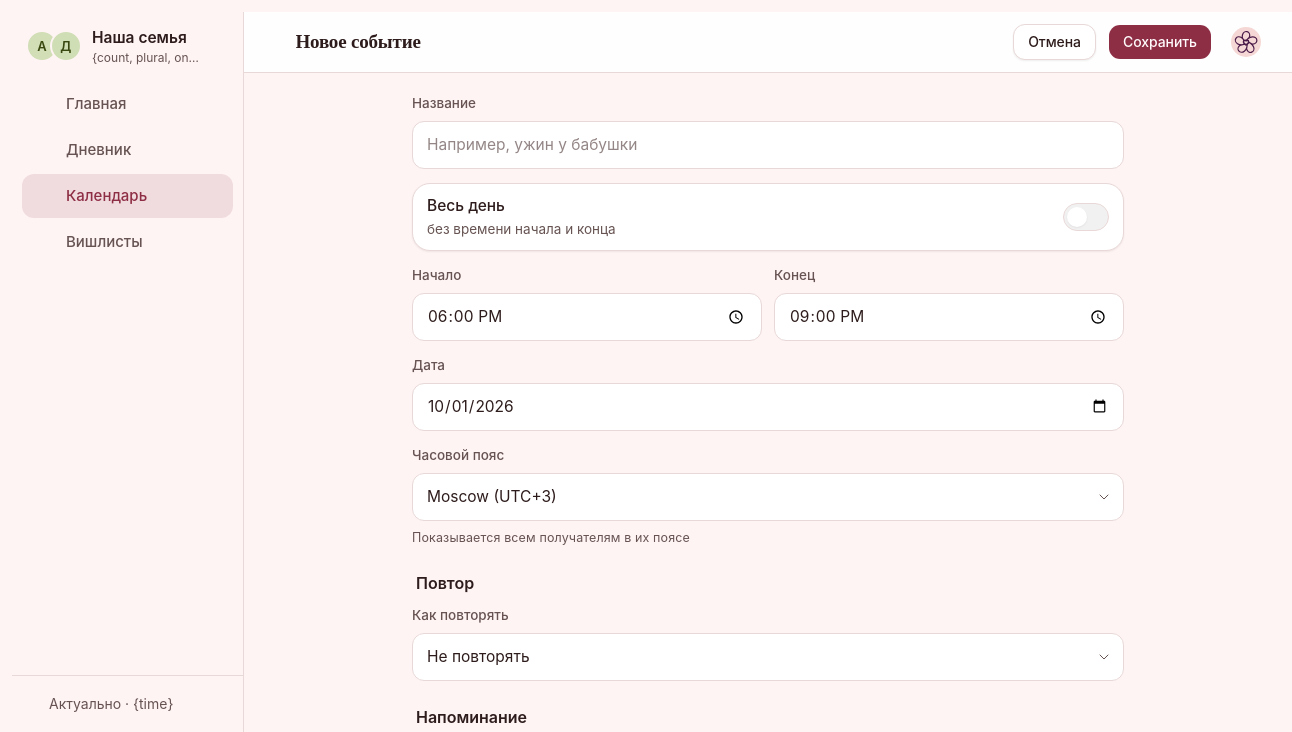
Scenario: EventEditorScreen (a new event) › a backwards pair of times is refused before anything is sent
The image size is (1292, 732).
Type "Вечеринка" into the field labelled "Название" at (768, 145), box top-left (412, 121), bottom-right (1124, 169)
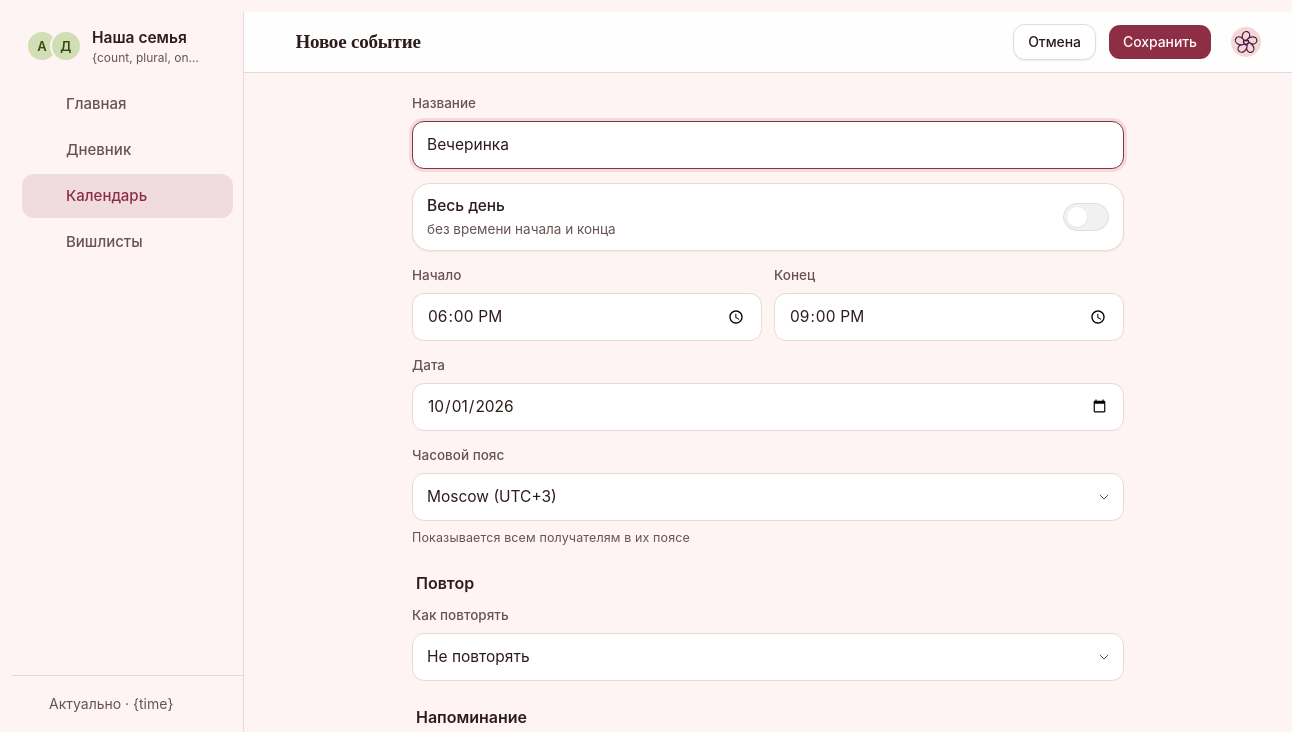
Replace the text in the time field labelled "Конец" with "17:00" at (949, 317), box top-left (774, 293), bottom-right (1124, 341)
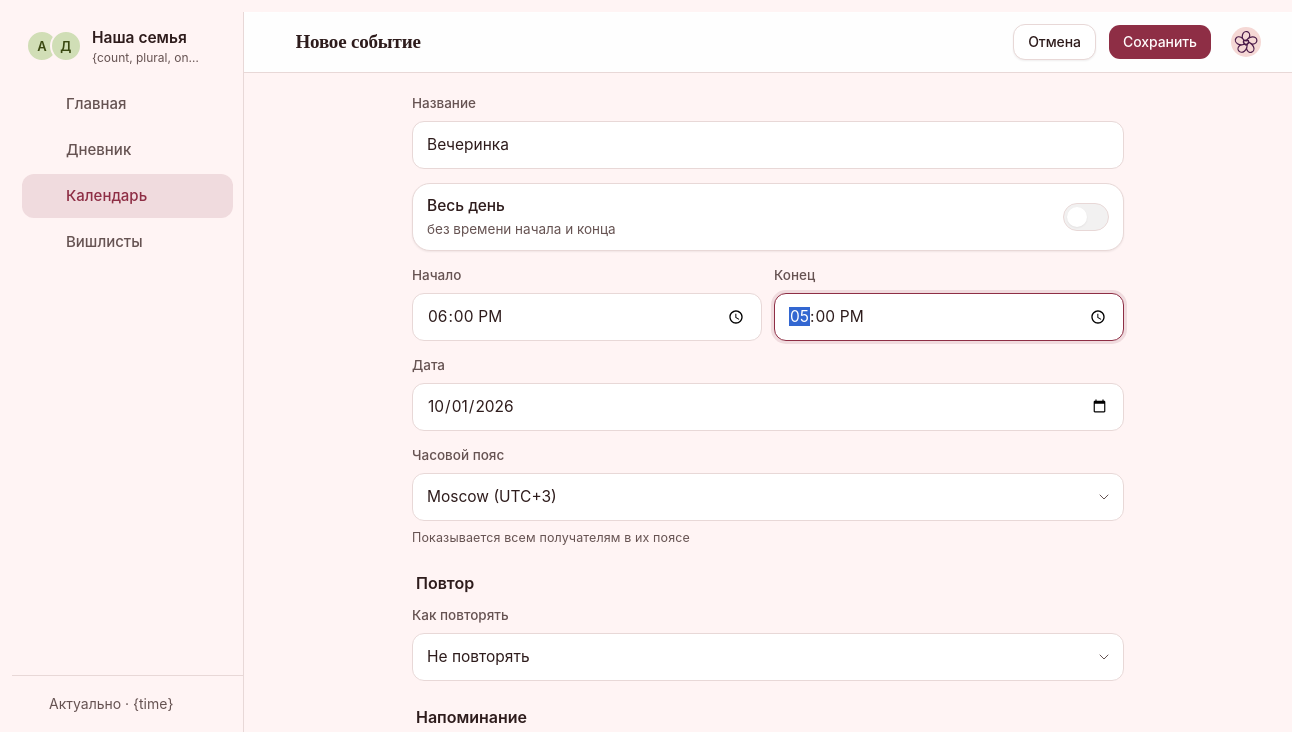
Click the button "Сохранить" at (1160, 42), box top-left (1108, 24), bottom-right (1212, 60)
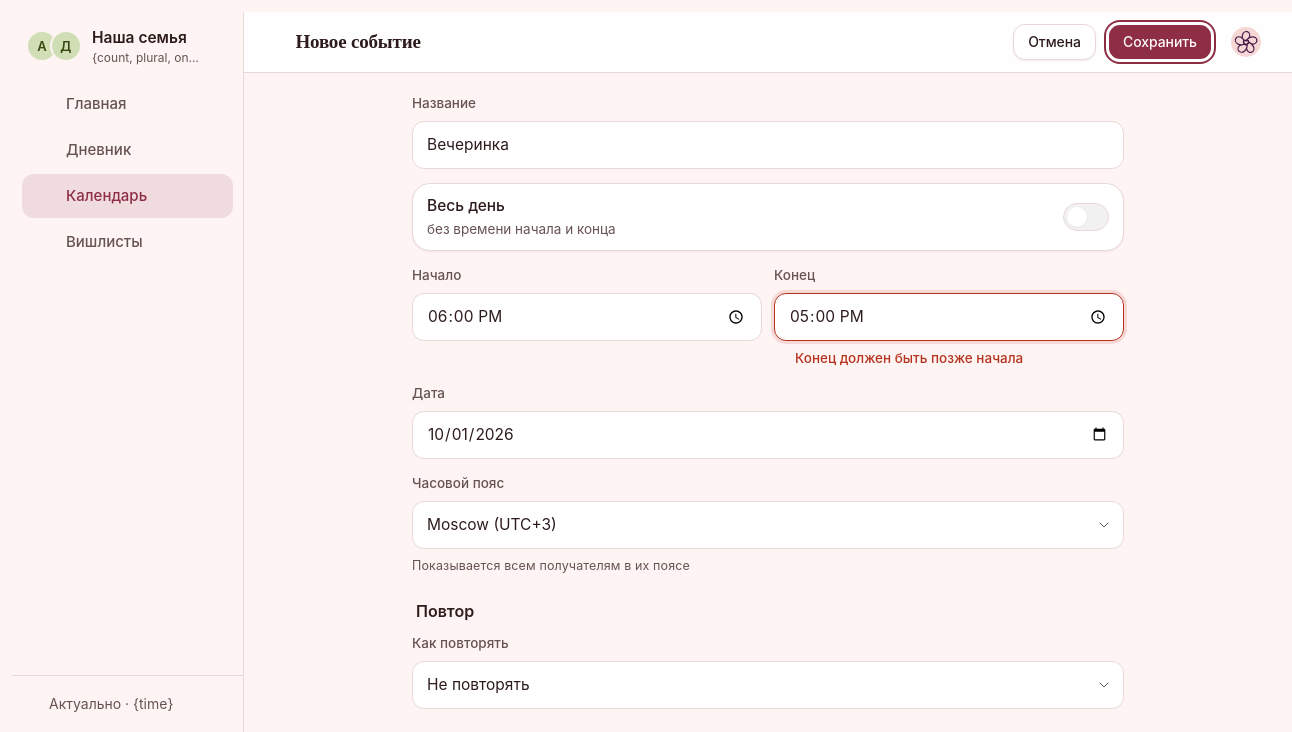
Expected: the text "Конец должен быть позже начала" is shown, top-left (795, 348), bottom-right (1023, 369)
